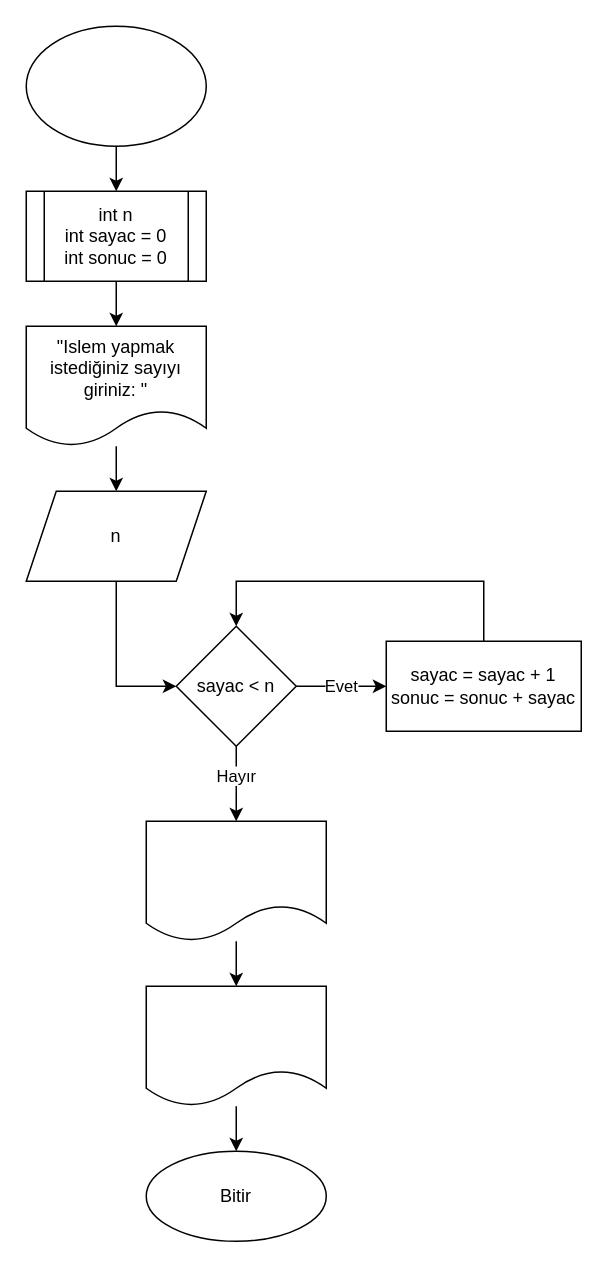
Some shapes in this 608 by 1268 pixel diagram are drawn without their labels. The box of each missing label's shape, as (x1, y1, x2, y2) in pixels:
"Sonuc: ": (145, 820, 326, 941)
Başla: (25, 25, 206, 146)
sonuc: (145, 985, 326, 1106)
